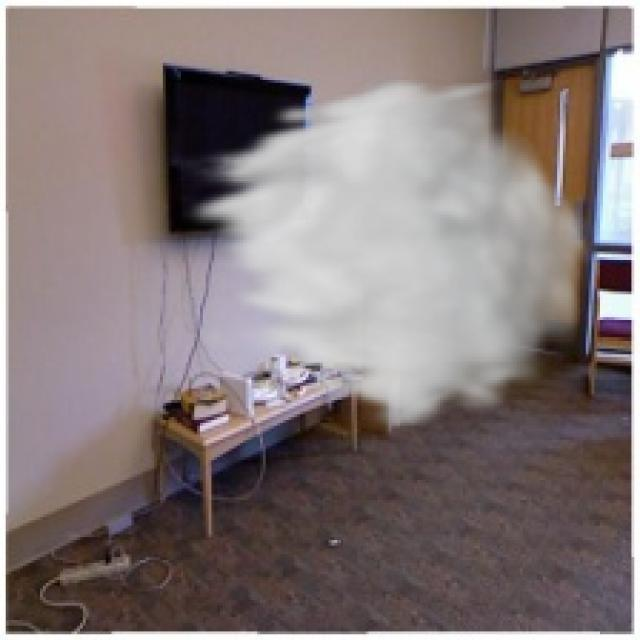Smoke: (174, 74, 597, 434)
